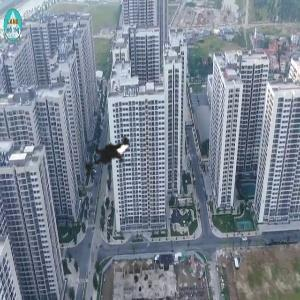drone: (66, 117, 155, 206)
